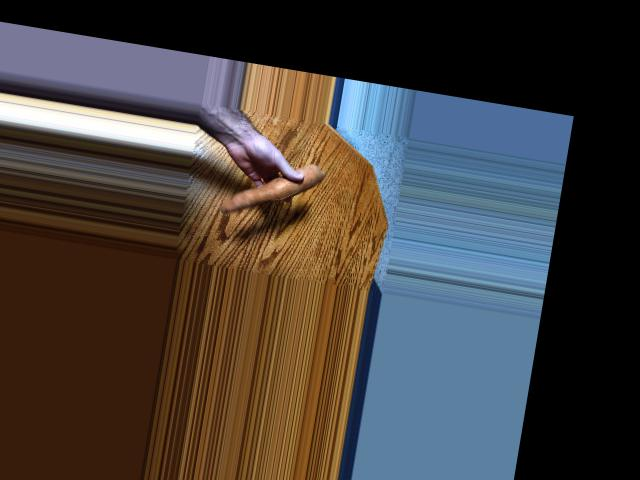sweet_potato: (222, 154, 336, 222)
